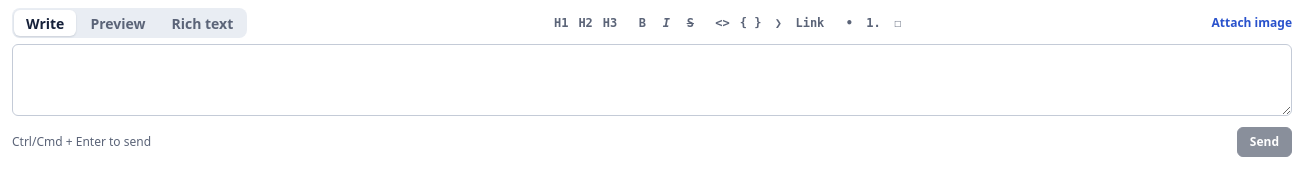
Scenario: Composer preview › says there is nothing to preview for an empty comment
Click the tab "Preview". click: x=118, y=23
box: [78,10,158,36]
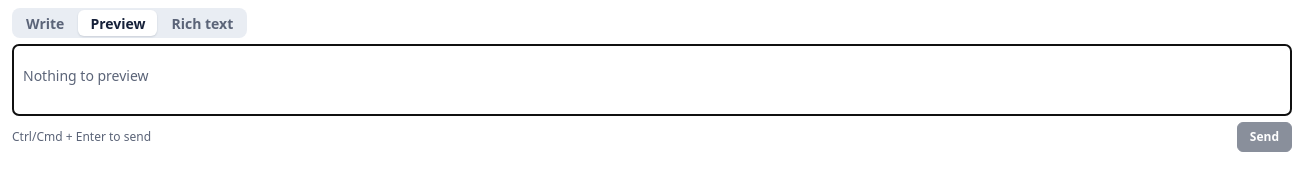
expect the panel reads "Nothing to preview": met, box [23,66,149,85]
